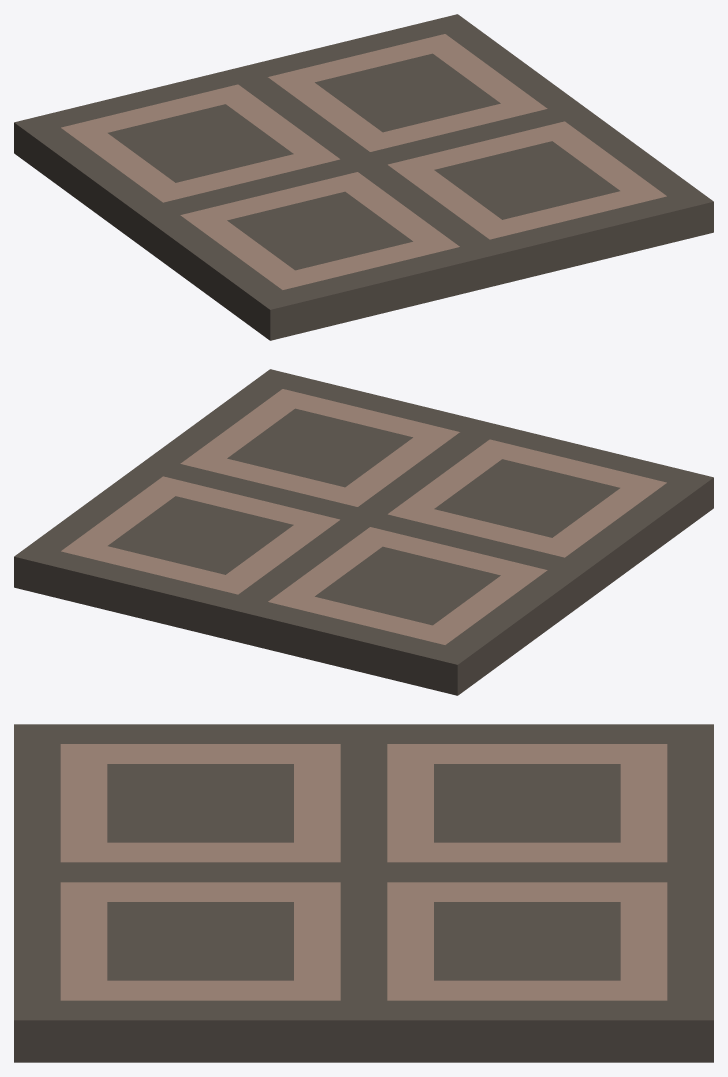
Rendered from dungeon_a_a_ground_c_a.obj.
The picture shows the model from 3 angles, top to bottom: view 1: azimuth 30°, elevation 25°; view 2: azimuth 150°, elevation 25°; view 3: azimuth 270°, elevation 25°; orthographic projection. The views are drawn at different scales.
Size of the model in its own units: 1.5 by 0.1 by 1.5.
1 material, 1 textured.
